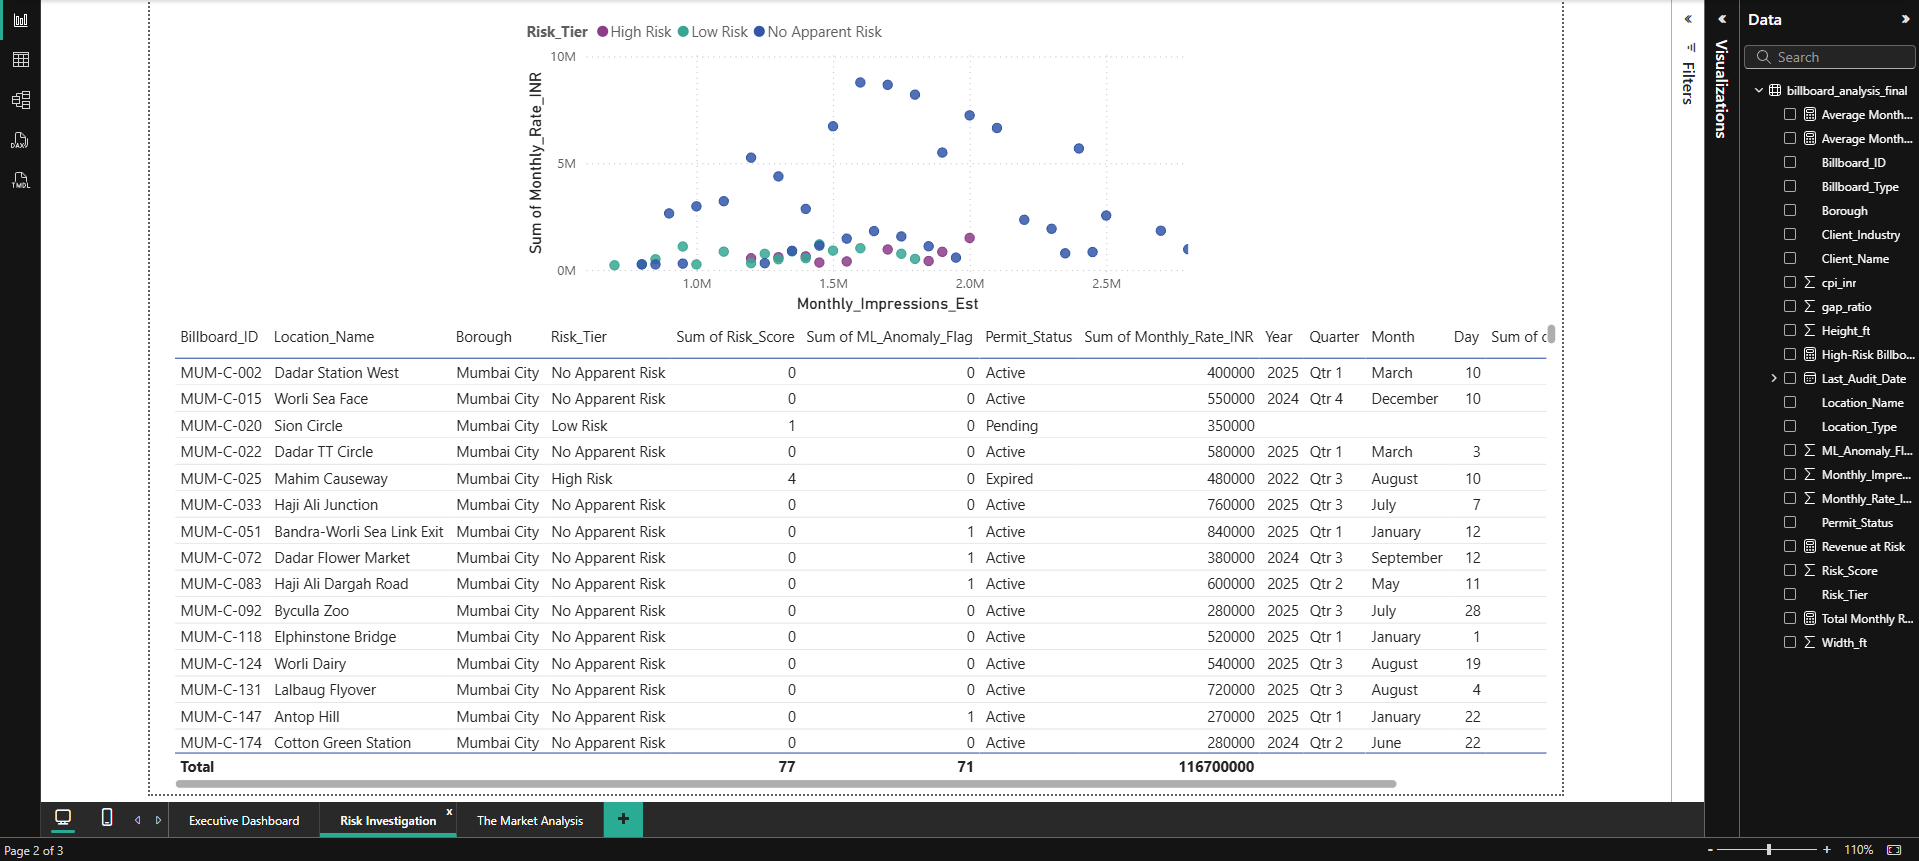

What the dashboard file says about the page in this screenshot:
{"tool":"powerbi","page":{"name":"Risk Investigation","canvas":[1280,720],"ordinal":1},"visuals":[{"type":"scatterChart","fields":{"Y":["Sum(billboard_analysis_final.Monthly_Rate_INR)"],"X":["billboard_analysis_final.Monthly_Impressions_Est"],"Series":["billboard_analysis_final.Risk_Tier"]},"box":[336,8,624,280],"z":0},{"type":"tableEx","fields":{"Values":["billboard_analysis_final.Billboard_ID","billboard_analysis_final.Location_Name","billboard_analysis_final.Borough","billboard_analysis_final.Risk_Tier","Sum(billboard_analysis_final.Risk_Score)","Sum(billboard_analysis_final.ML_Anomaly_Flag)","billboard_analysis_final.Permit_Status","Sum(billboard_analysis_final.Monthly_Rate_INR)","billboard_analysis_final.Last_Audit_Date.Variation.Date Hierarchy.Year","billboard_analysis_final.Last_Audit_Date.Variation.Date Hierarchy.Quarter","billboard_analysis_final.Last_Audit_Date.Variation.Date Hierarchy.Month","billboard_analysis_final.Last_Audit_Date.Variation.Date Hierarchy.Day"]},"box":[16,288,1264,432],"z":1000}]}

Visuals, with their boxes on the page's 1280x720 design canvas (x1, y1, x2, y2). These are canvas units, not pixel positions in the 1919x861 screenshot, which may show the page scaled, cropped or inside an application window:
scatterChart - Sum(billboard_analysis_final.Monthly_Rate_INR) x billboard_analysis_final.Monthly_Impressions_Est: x1=336, y1=8, x2=960, y2=288
tableEx - billboard_analysis_final.Billboard_ID x billboard_analysis_final.Location_Name: x1=16, y1=288, x2=1280, y2=720
